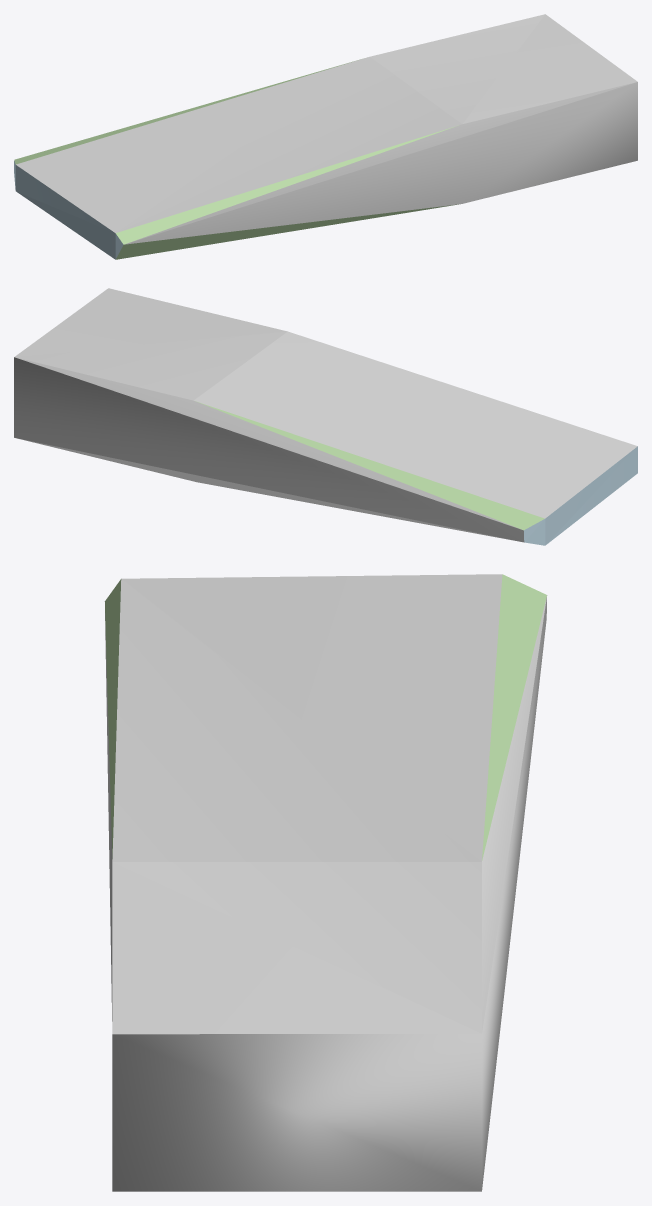
The model's file is ArmCollision.dae.
3 views of the same model, one above another, from view 1: azimuth 30°, elevation 25°; view 2: azimuth 150°, elevation 25°; view 3: azimuth 270°, elevation 25° (orthographic). The views are drawn at different scales.
Parts seen in each view (by area): view 1: ArmCollision; view 2: ArmCollision; view 3: ArmCollision.
Part boxes in pixels (x1,y1,x2,y2): ArmCollision: (14,14,637,259); ArmCollision: (14,288,637,545); ArmCollision: (104,574,547,1191).
Bounding box in the file's own units: 1.05 × 0.3831 × 0.1523.
